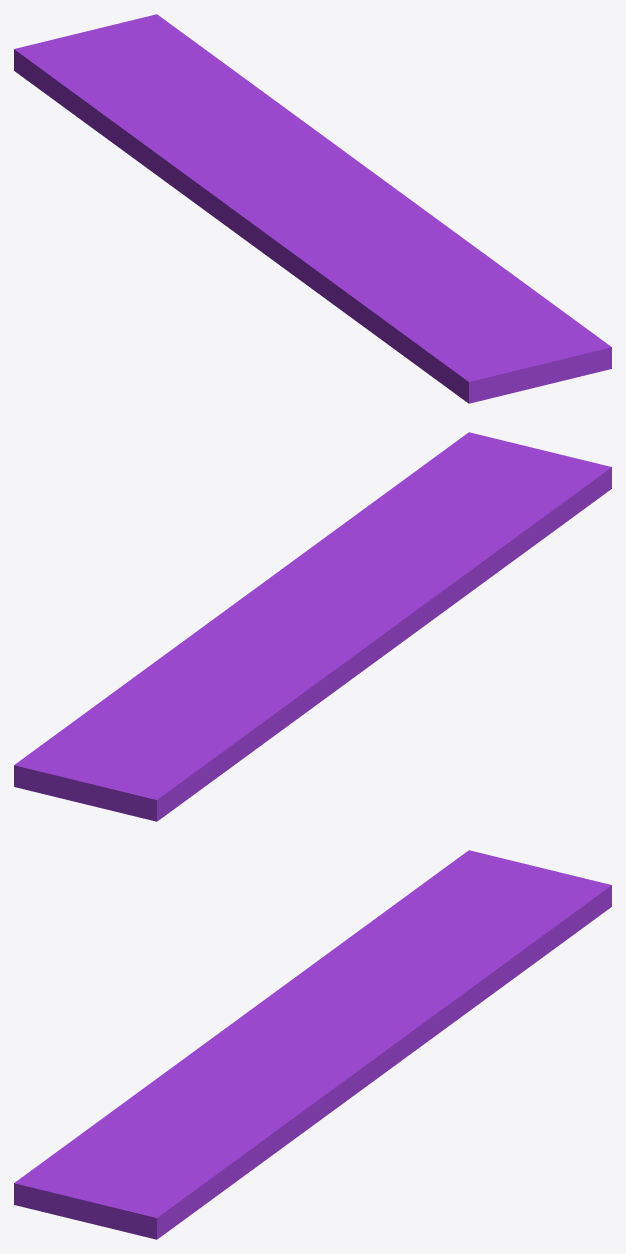
File: StairsStep_63_chunks.fbx
The picture shows the model from 3 angles, top to bottom: view 1: azimuth 30°, elevation 25°; view 2: azimuth 150°, elevation 25°; view 3: azimuth 330°, elevation 25°; orthographic projection.
Visible parts, largest first — view 1: StairsStep_63_8, StairsStep_63_3, StairsStep_63_5, StairsStep_63_6, StairsStep_63_0, StairsStep_63_4, StairsStep_63_1, StairsStep_63_9; view 2: StairsStep_63_3, StairsStep_63_8, StairsStep_63_5, StairsStep_63_6, StairsStep_63_0, StairsStep_63_4, StairsStep_63_1, StairsStep_63_9; view 3: StairsStep_63_8, StairsStep_63_3, StairsStep_63_4, StairsStep_63_1, StairsStep_63_5, StairsStep_63_6, StairsStep_63_9, StairsStep_63_0, StairsStep_63_7.
Part boxes in pixels (x1,y1,x2,y2): StairsStep_63_8: (344,270,611,403); StairsStep_63_3: (14,14,223,176); StairsStep_63_5: (155,131,337,217); StairsStep_63_6: (265,206,400,312); StairsStep_63_0: (201,185,324,254); StairsStep_63_4: (209,52,343,157); StairsStep_63_1: (309,151,465,240); StairsStep_63_9: (390,222,523,283); StairsStep_63_3: (14,682,303,821); StairsStep_63_8: (382,432,611,579); StairsStep_63_5: (218,620,357,711); StairsStep_63_6: (324,548,488,636); StairsStep_63_0: (304,599,430,674); StairsStep_63_4: (66,627,219,726); StairsStep_63_1: (201,539,324,628); StairsStep_63_9: (323,496,416,575); StairsStep_63_8: (14,1093,253,1239); StairsStep_63_3: (327,850,611,967); StairsStep_63_4: (406,923,560,1050); StairsStep_63_1: (301,1021,424,1116); StairsStep_63_5: (282,954,407,1029); StairsStep_63_6: (137,1042,301,1102); StairsStep_63_9: (209,1074,310,1165); StairsStep_63_0: (195,987,321,1050); StairsStep_63_7: (252,1113,324,1169).
Bounding box in the file's own units: 200 × 28.98 × 1102.
